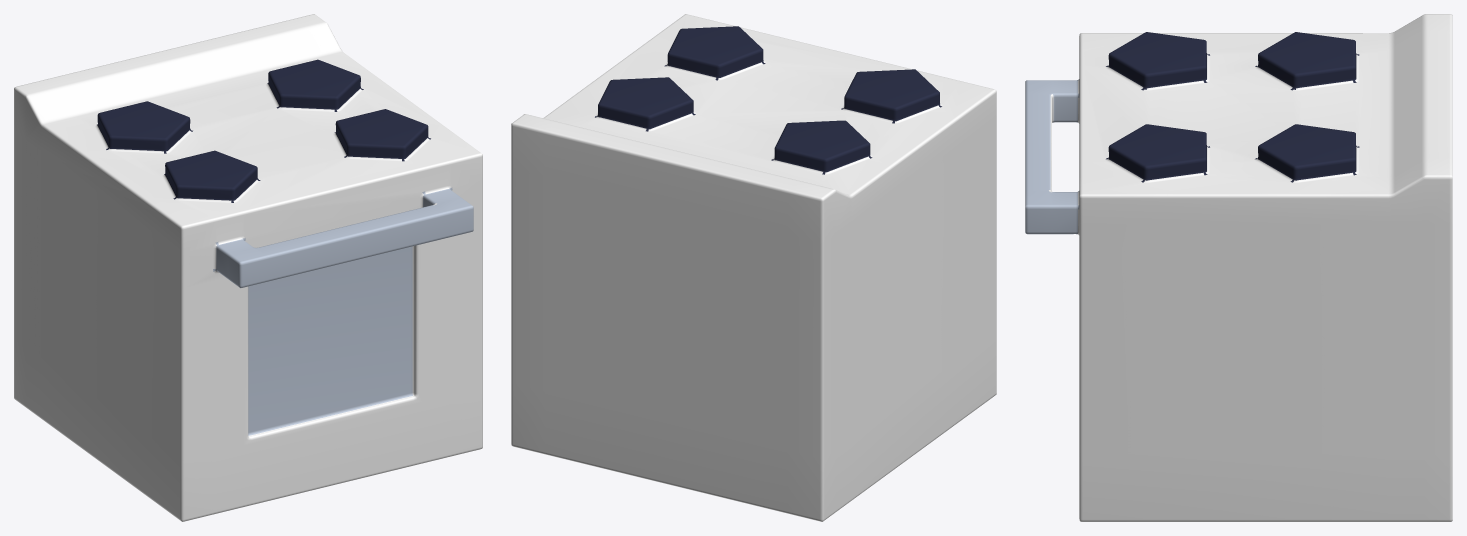
Rendered from stove.glb.
3 renders of one model, left to right at view 1: azimuth 30°, elevation 25°; view 2: azimuth 150°, elevation 25°; view 3: azimuth 270°, elevation 25°, orthographic. The views are drawn at different scales.
Visible parts, largest first — view 1: Stove; view 2: Stove; view 3: Stove.
Boxes of the visible parts, left/top/right/bottom form: Stove: left=14, top=14, right=482, bottom=521; Stove: left=511, top=14, right=996, bottom=521; Stove: left=1025, top=14, right=1452, bottom=521.
Bounding box in the file's own units: 0.5701 × 0.5647 × 0.6319.
Materials: 1 (1 with a texture image).
